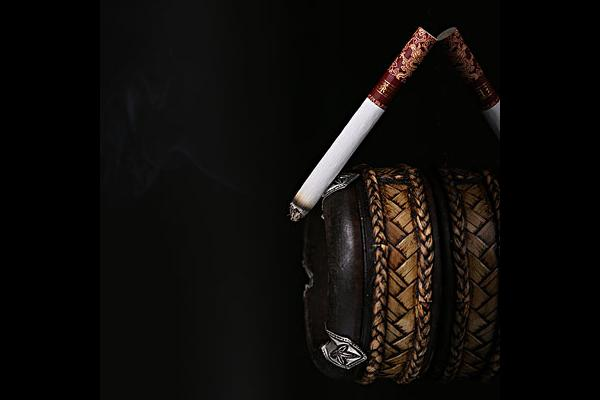Cigarette: (289, 30, 434, 220)
